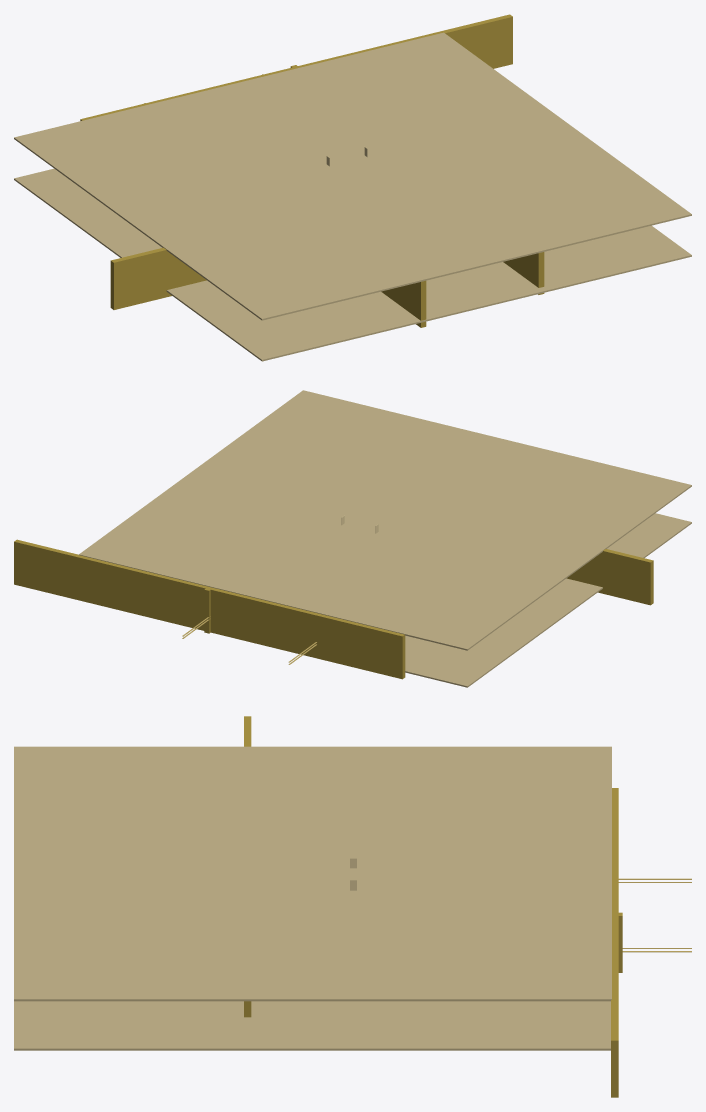
The model's file is targetRange.glb.
The picture shows the model from 3 angles, top to bottom: view 1: azimuth 30°, elevation 25°; view 2: azimuth 150°, elevation 25°; view 3: azimuth 270°, elevation 25°; orthographic projection. The views are drawn at different scales.
Visible parts, largest first — view 1: target-range-2017-05-18-14-24-27objcleanermaterialmergergles; view 2: target-range-2017-05-18-14-24-27objcleanermaterialmergergles; view 3: target-range-2017-05-18-14-24-27objcleanermaterialmergergles.
Boxes of the visible parts, <box> form: target-range-2017-05-18-14-24-27objcleanermaterialmergergles: <box>14,14,691,361</box>; target-range-2017-05-18-14-24-27objcleanermaterialmergergles: <box>14,390,691,687</box>; target-range-2017-05-18-14-24-27objcleanermaterialmergergles: <box>14,716,691,1097</box>.
Size of the model in its own units: 64.19 by 8.14 by 56.71.
